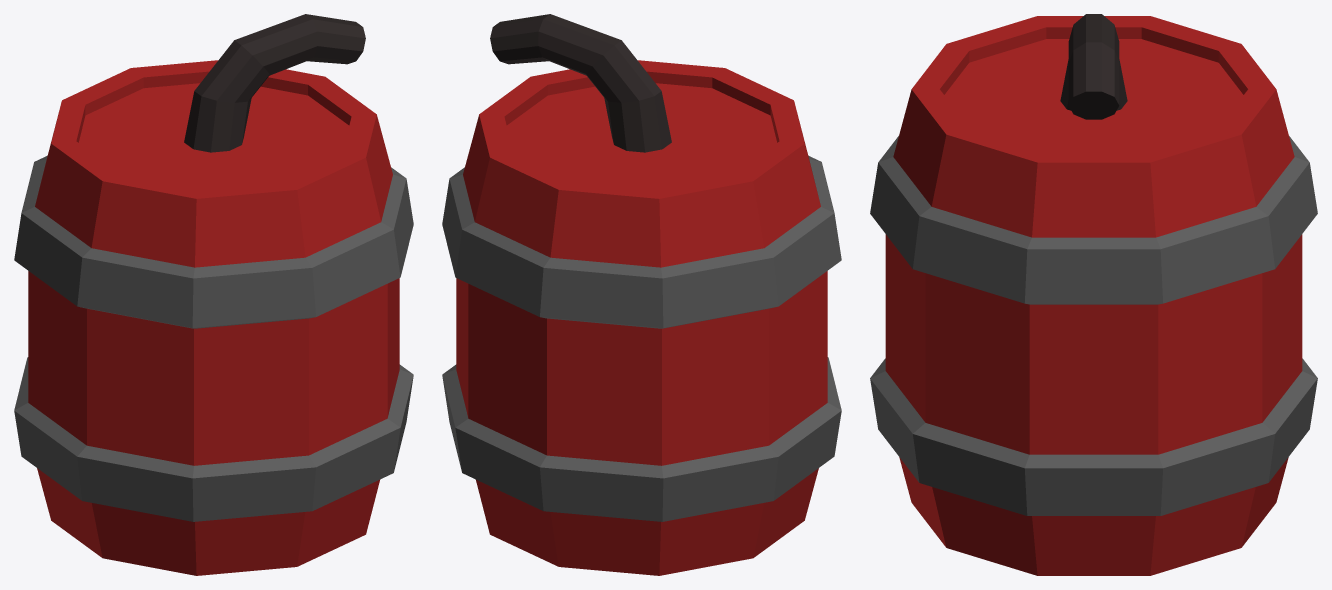
Rendered from Bochcacha riko.fbx.
3 views of the same model, side by side, from view 1: azimuth 30°, elevation 25°; view 2: azimuth 150°, elevation 25°; view 3: azimuth 270°, elevation 25° (orthographic). The views are drawn at different scales.
Parts seen in each view (by area): view 1: bochka tnt suka; view 2: bochka tnt suka; view 3: bochka tnt suka.
Boxes of the visible parts, left/top/right/bottom form: bochka tnt suka: left=14, top=14, right=413, bottom=575; bochka tnt suka: left=442, top=14, right=841, bottom=575; bochka tnt suka: left=870, top=14, right=1317, bottom=575.
Bounding box in the file's own units: 46.7 × 61.82 × 49.1.
